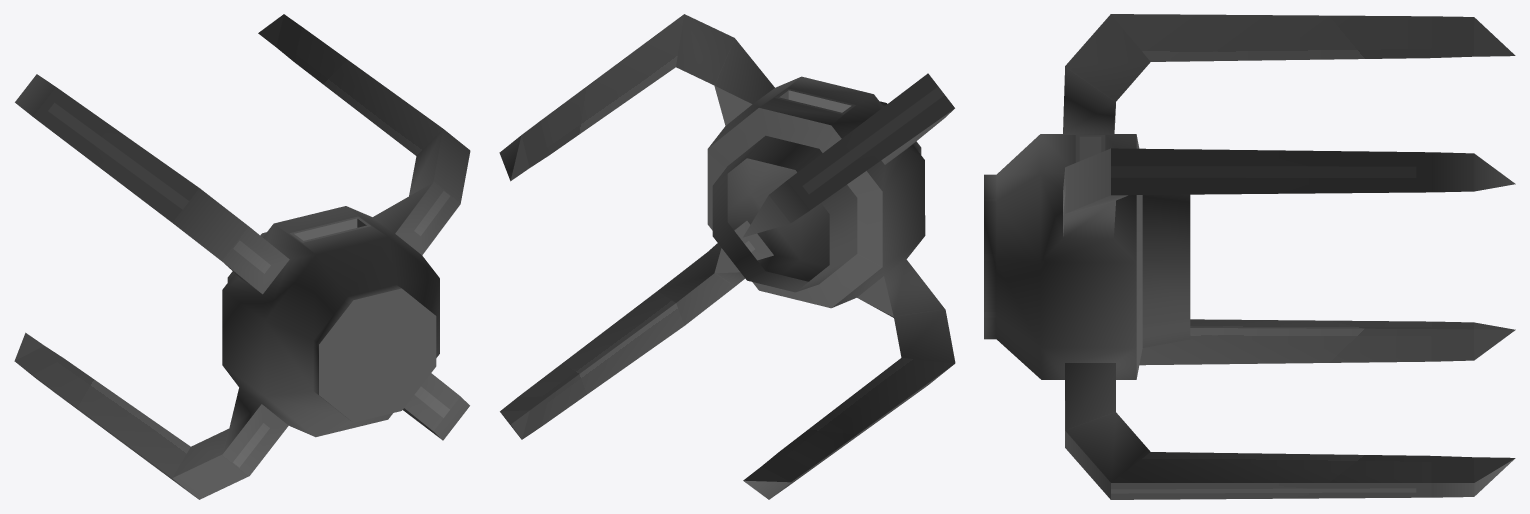
Rendered from stat_hangar0.glb.
The picture shows the model from 3 angles, left to right: view 1: azimuth 30°, elevation 25°; view 2: azimuth 150°, elevation 25°; view 3: azimuth 270°, elevation 25°; orthographic projection. The views are drawn at different scales.
Visible parts, largest first — view 1: group_19; view 2: group_19; view 3: group_19.
Part boxes in pixels (bbox=[...]): group_19: bbox=[14, 14, 470, 499]; group_19: bbox=[499, 14, 955, 499]; group_19: bbox=[984, 14, 1515, 499].
Bounding box in the file's own units: 19284 × 19284 × 26416.
Materials: 2 (2 with a texture image).
